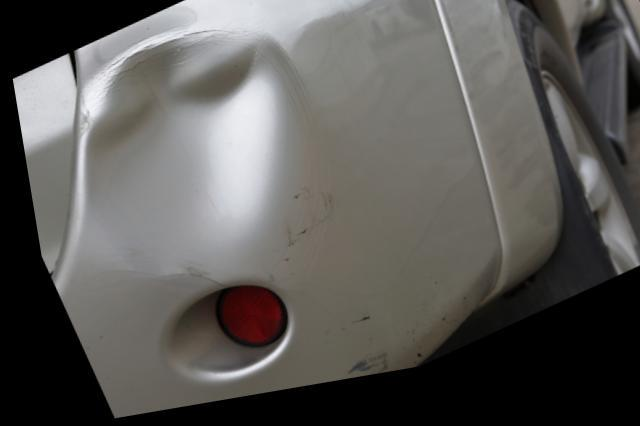dent: (78, 35, 273, 291)
scratch: (326, 321, 384, 388)
